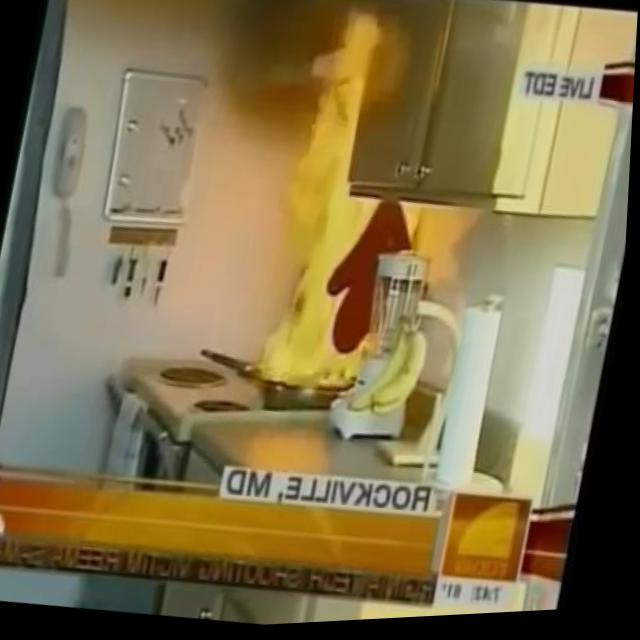fire: (255, 140, 403, 409)
